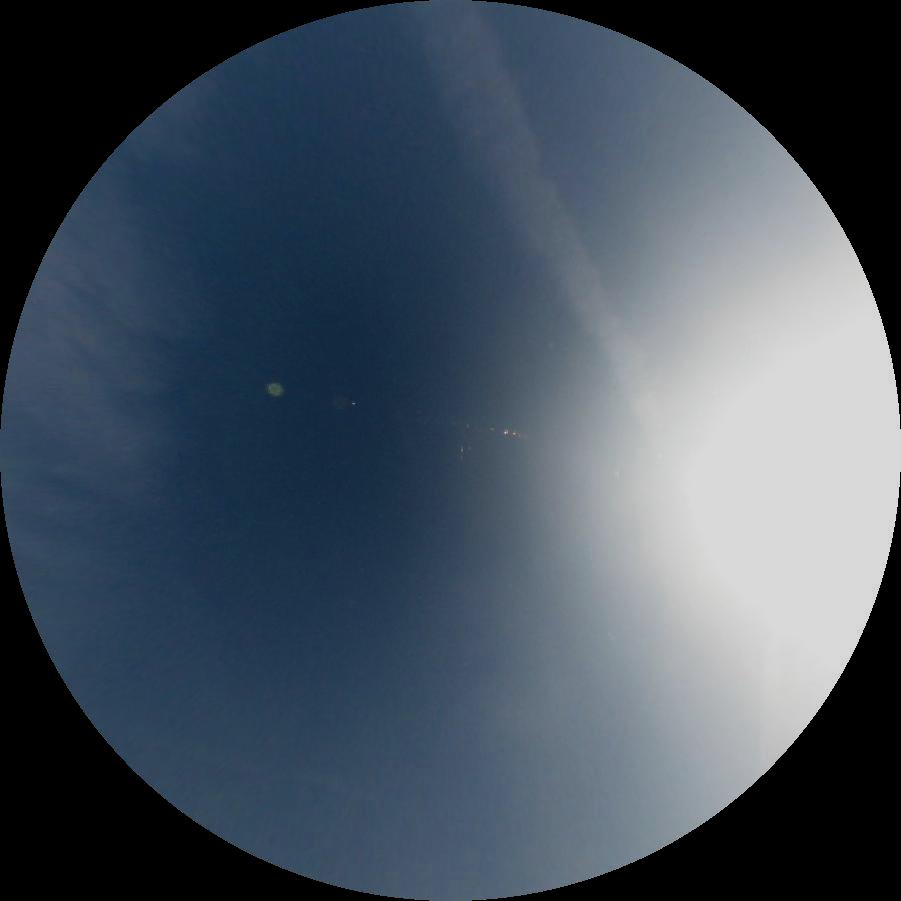contrail veryold: (401, 0, 679, 463)
